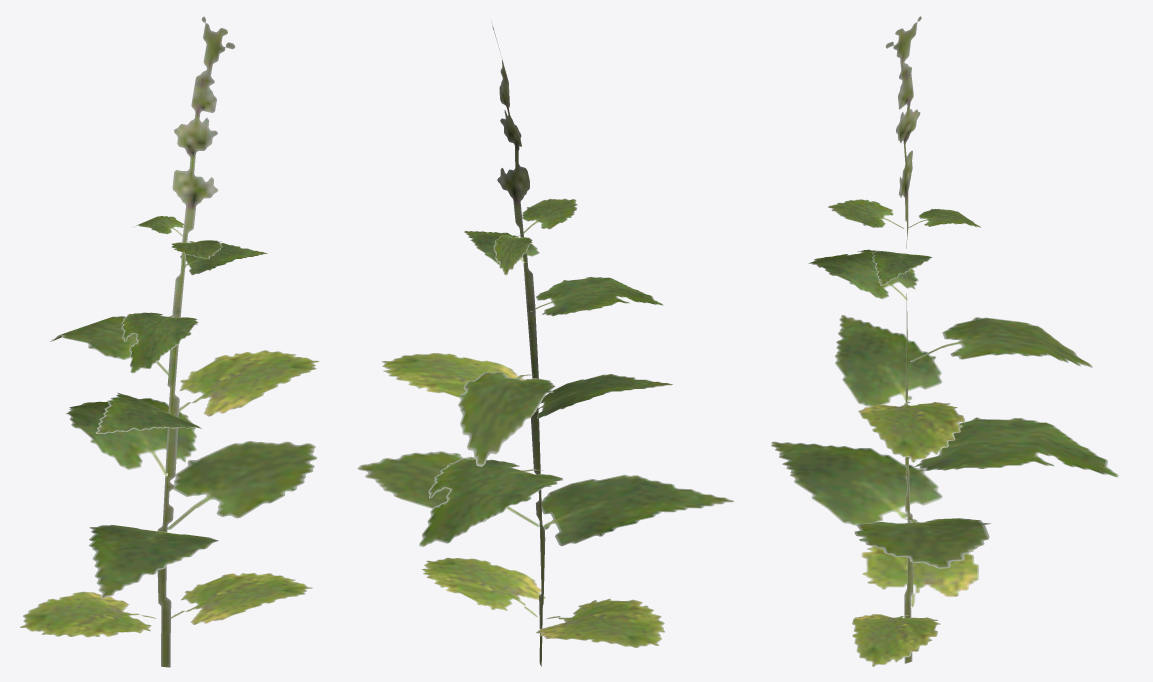
Rendered from flower19_01.fbx.
3 renders of one model, left to right at view 1: azimuth 30°, elevation 25°; view 2: azimuth 150°, elevation 25°; view 3: azimuth 270°, elevation 25°, orthographic. The views are drawn at different scales.
Parts seen in each view (by area): view 1: flower_19_01; view 2: flower_19_01; view 3: flower_19_01.
Boxes of the visible parts, x1,y1,x2,y2 form: flower_19_01: [20, 16, 319, 667]; flower_19_01: [357, 22, 734, 666]; flower_19_01: [771, 16, 1118, 666].
Bounding box in the file's own units: 7.08 × 14.37 × 7.19.
